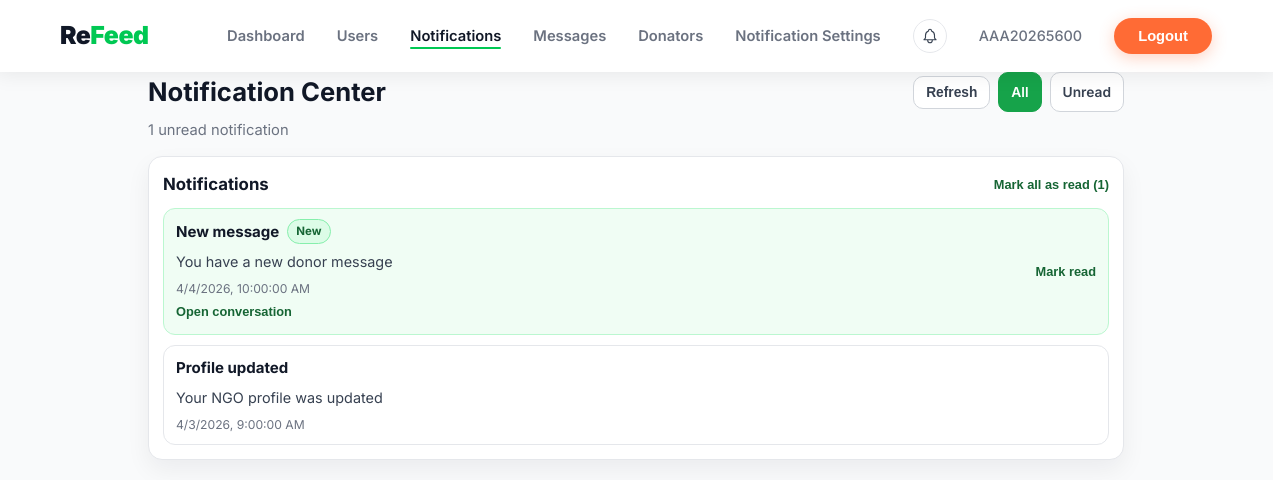
Test case: NGO Notifications - E2E Tests › should filter to unread notifications
Click the link "Unread" at (1087, 92), box [1050,72,1124,112]
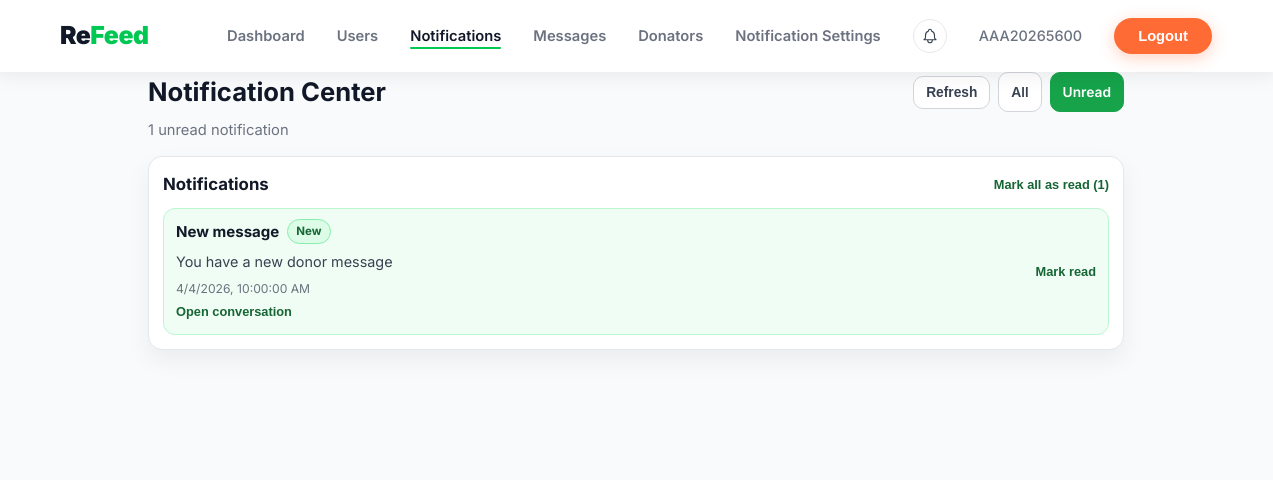
Expected: the text "New message" is shown, [176,220,279,244]
Now the text "Profile updated" is gone
